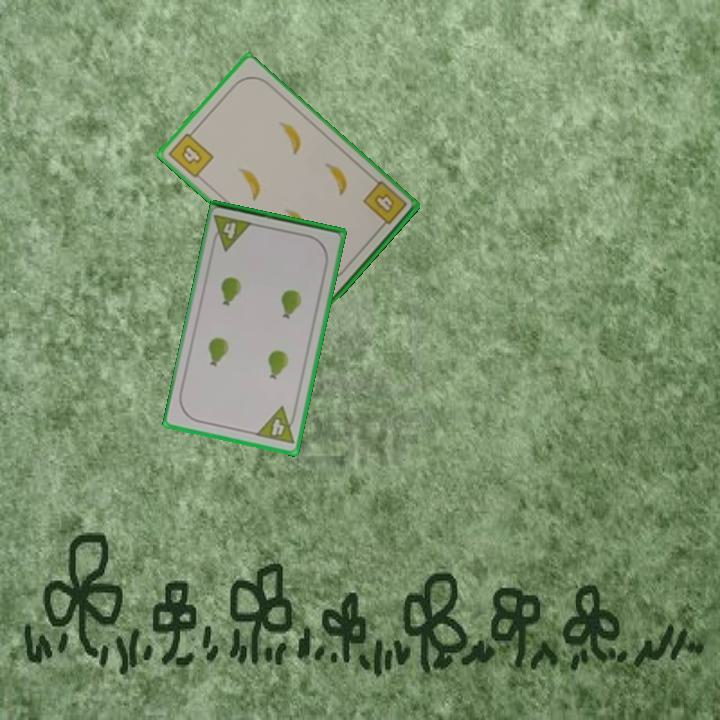4b: (165, 125, 216, 181), (359, 177, 410, 233)
4p: (252, 403, 300, 447), (208, 211, 256, 253)
